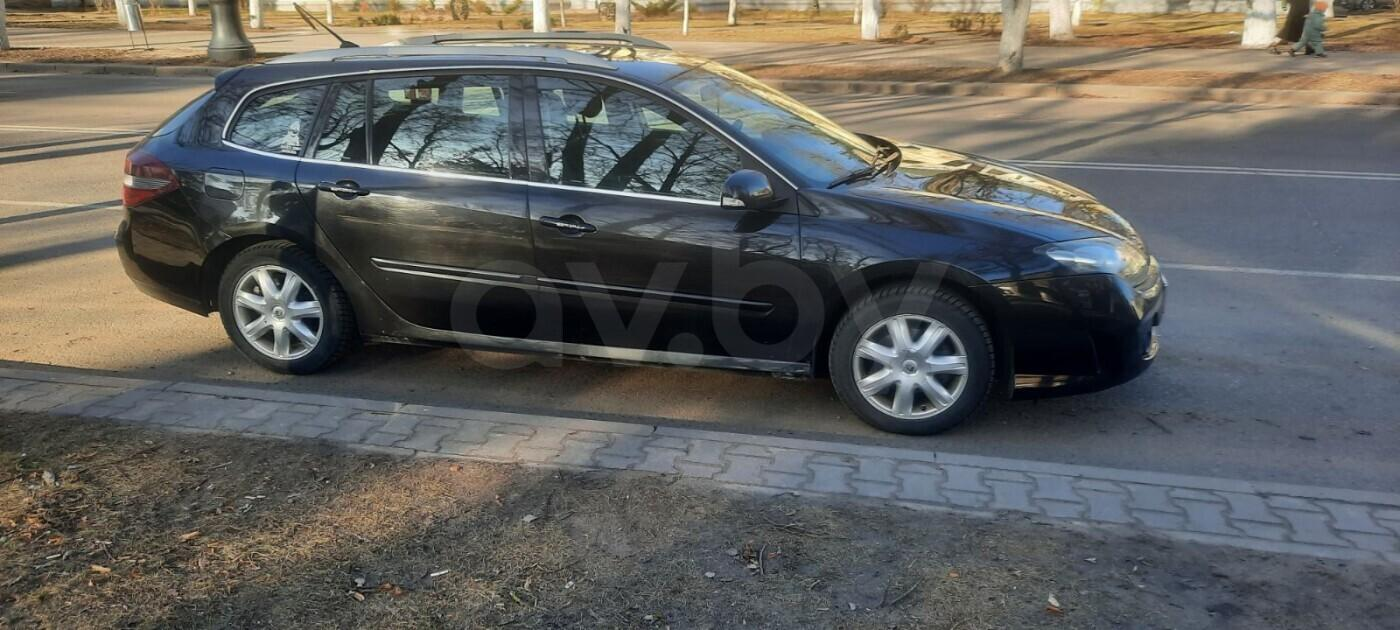Laguna_2007-2011: (114, 32, 1166, 434)
